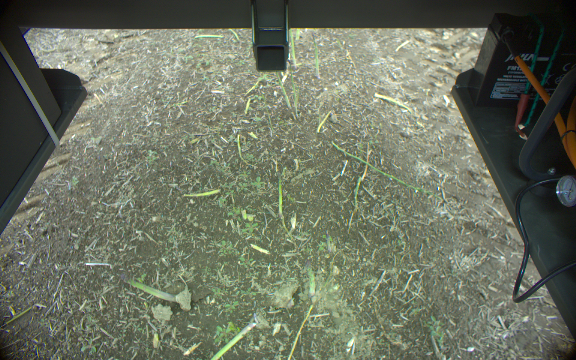aspa: (203, 318, 259, 360), (118, 271, 175, 303), (372, 91, 411, 114), (305, 30, 322, 79), (274, 71, 290, 110), (273, 171, 285, 218), (287, 28, 296, 67), (295, 27, 303, 41)
